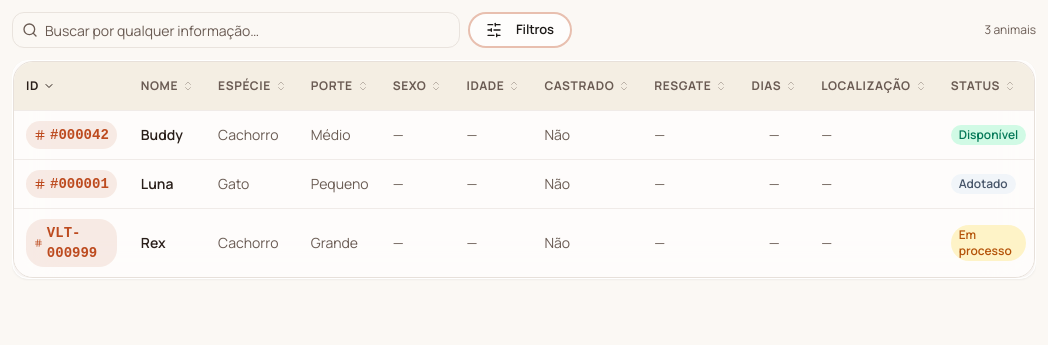
PetsOpsTable — TASK-V3-PET-OPS-LOG (sw-v72.4) › D-PET-OPS-COL-FILTER: filtro por coluna isola por espécie
// Abre a linha de filtros.
Click the button "Filtros" at (520, 30), box [468,12,572,48]
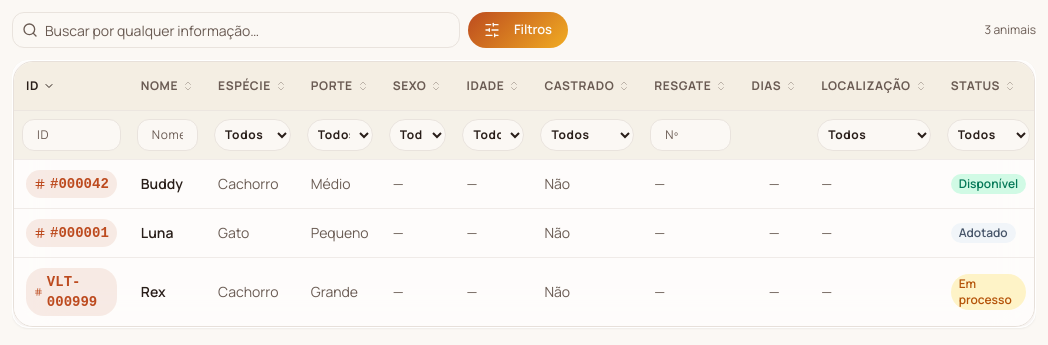
Now the 1st dropdown named "Filtrar coluna" is shown
// O 1º select enum é Espécie — filtra por gato.
Select "Gato" in the 1st dropdown named "Filtrar coluna" at (252, 134), box [214,118,291,150]
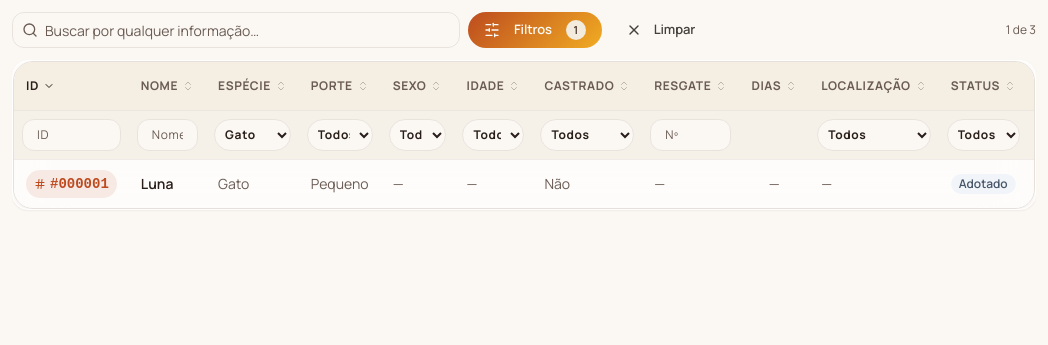
Expected: the link with test id "pets-ops-id-p2" is shown, [26,170,117,198]
Now the link with test id "pets-ops-id-p1" is gone
Now the link with test id "pets-ops-id-p3" is gone
